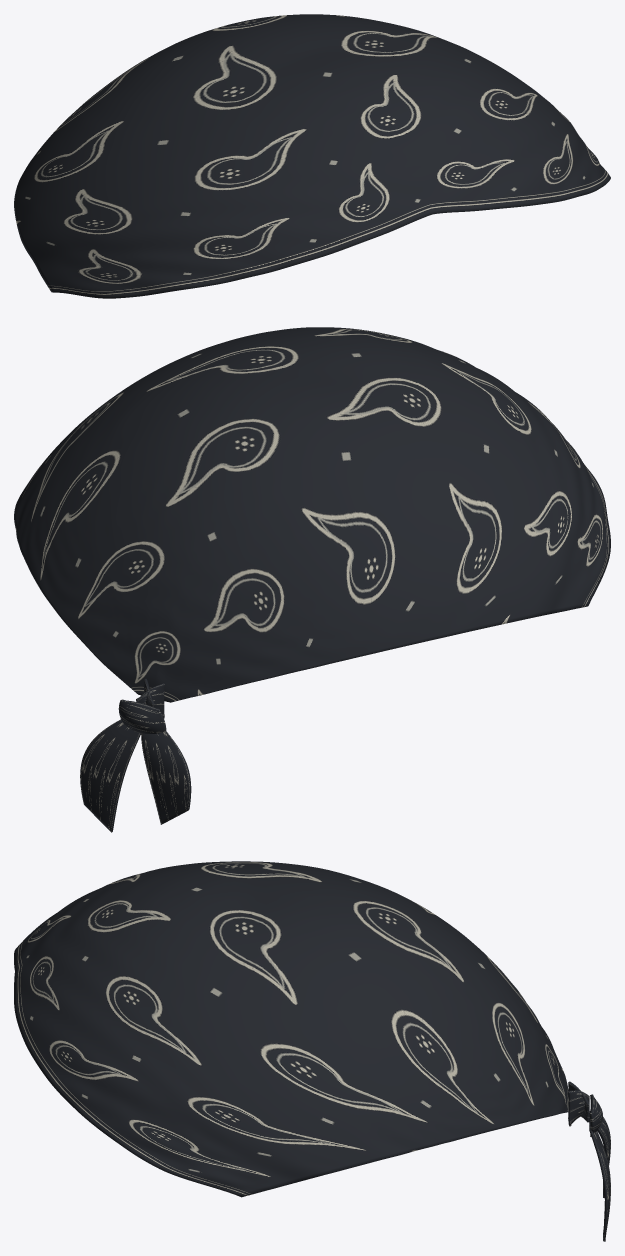
File: Feminine-twin-braids-bandana.glb
The picture shows the model from 3 angles, top to bottom: view 1: azimuth 30°, elevation 25°; view 2: azimuth 150°, elevation 25°; view 3: azimuth 270°, elevation 25°; orthographic projection.
Parts seen in each view (by area): view 1: Bandana / triangular crown scarf; view 2: Bandana / triangular crown scarf, Bandana / hemmed tail 1, Bandana / hemmed tail -1, Bandana / rounded knot fold; view 3: Bandana / triangular crown scarf, Bandana / hemmed tail 1, Bandana / gathered fold 1.
Boxes of the visible parts, bbox=[...] form: Bandana / triangular crown scarf: bbox=[14, 14, 610, 298]; Bandana / triangular crown scarf: bbox=[14, 327, 610, 702]; Bandana / hemmed tail 1: bbox=[80, 719, 140, 832]; Bandana / hemmed tail -1: bbox=[141, 731, 191, 824]; Bandana / rounded knot fold: bbox=[118, 699, 166, 734]; Bandana / triangular crown scarf: bbox=[14, 861, 569, 1197]; Bandana / hemmed tail 1: bbox=[589, 1120, 610, 1241]; Bandana / gathered fold 1: bbox=[568, 1090, 589, 1126].
Bounding box in the file's own units: 0.739 × 0.4431 × 0.718.
1 material, 1 textured.
